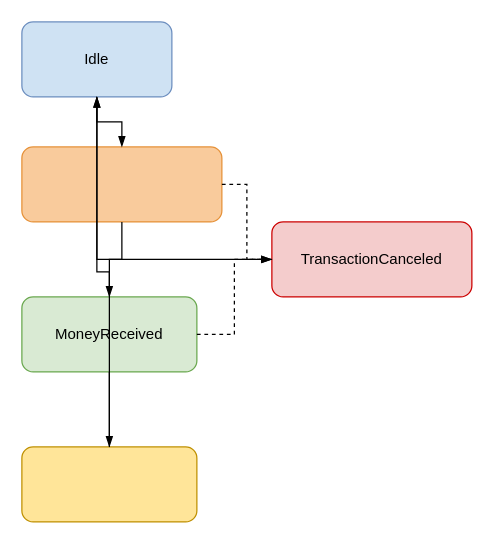
This 494x544 diagram has some shape labels left out. The centre of each missing label's shape, as x and y in pixels:
"TicketDispensed" belongs at [109,484].
"WaitingForMoney" belongs at [121,184].
